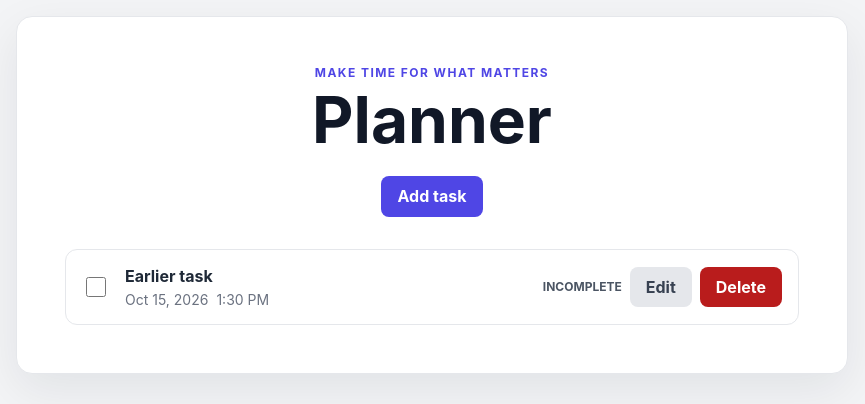
App › deletes a task from the list and storage
The width and height of the screenshot is (865, 404).
What coordinates should you click on to do the following:
click the button "Delete"
I would click on:
 (741, 287)
Its box is x1=700 y1=266 x2=782 y2=307.
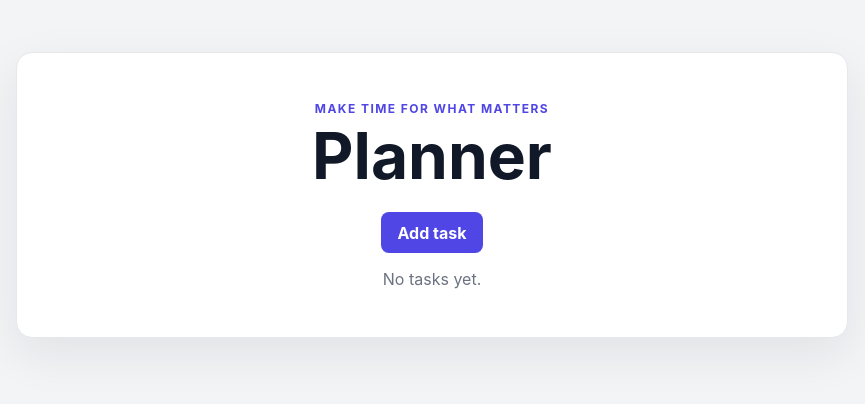
Expected: the heading "Earlier task" is gone
Expected: the text "No tasks yet." is shown, x1=383 y1=269 x2=481 y2=289
